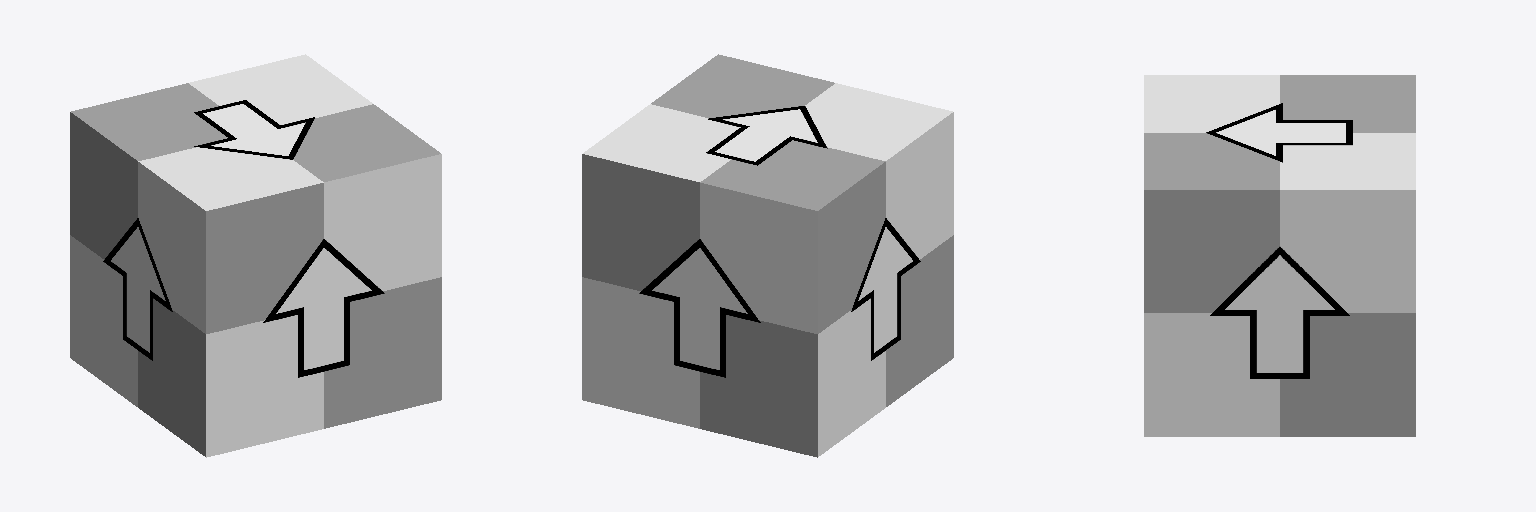
The picture shows the model from 3 angles: view 1: azimuth 30°, elevation 25°; view 2: azimuth 150°, elevation 25°; view 3: azimuth 270°, elevation 25°; orthographic projection.
Visible parts, largest first — view 1: Cube; view 2: Cube; view 3: Cube.
Boxes of the visible parts, x1=… form: Cube: x1=70, y1=54, x2=441, y2=457; Cube: x1=582, y1=54, x2=953, y2=457; Cube: x1=1144, y1=75, x2=1415, y2=436.
Bounding box in the file's own units: 30 × 30 × 30.
3 materials, 1 textured.